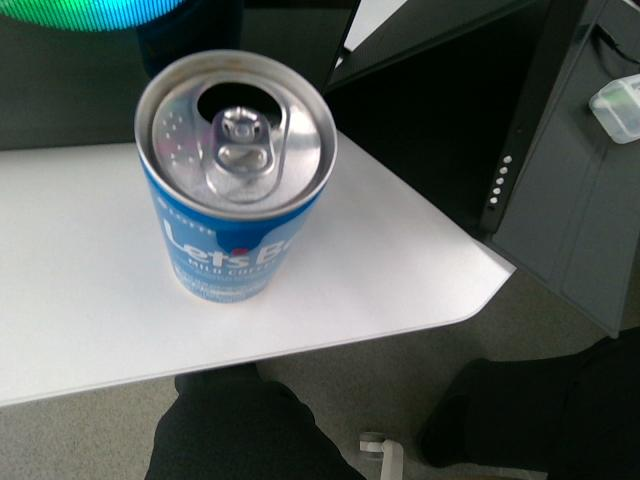letsbe: (132, 48, 338, 303)
